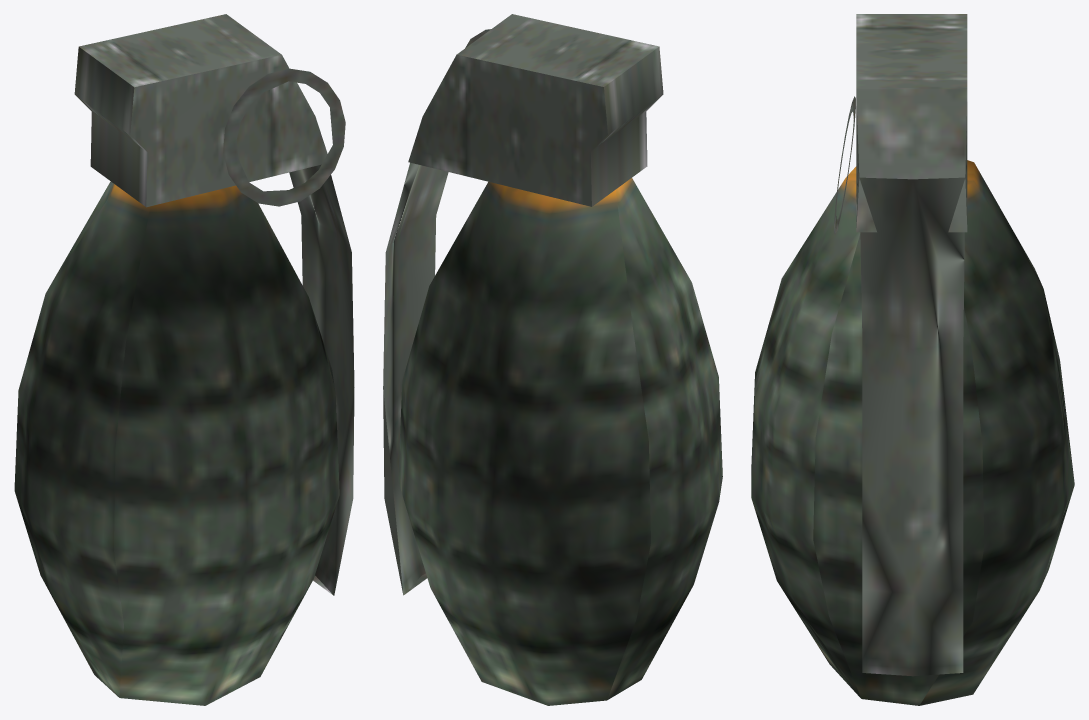
Rendered from iconlist.ico.obj.
The picture shows the model from 3 angles, left to right: view 1: azimuth 30°, elevation 25°; view 2: azimuth 150°, elevation 25°; view 3: azimuth 270°, elevation 25°; orthographic projection.
Bounding box in the file's own units: 2.47 × 5 × 2.3.
Materials: 1 (1 with a texture image).
